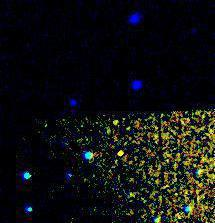star: (105, 140, 135, 170)
